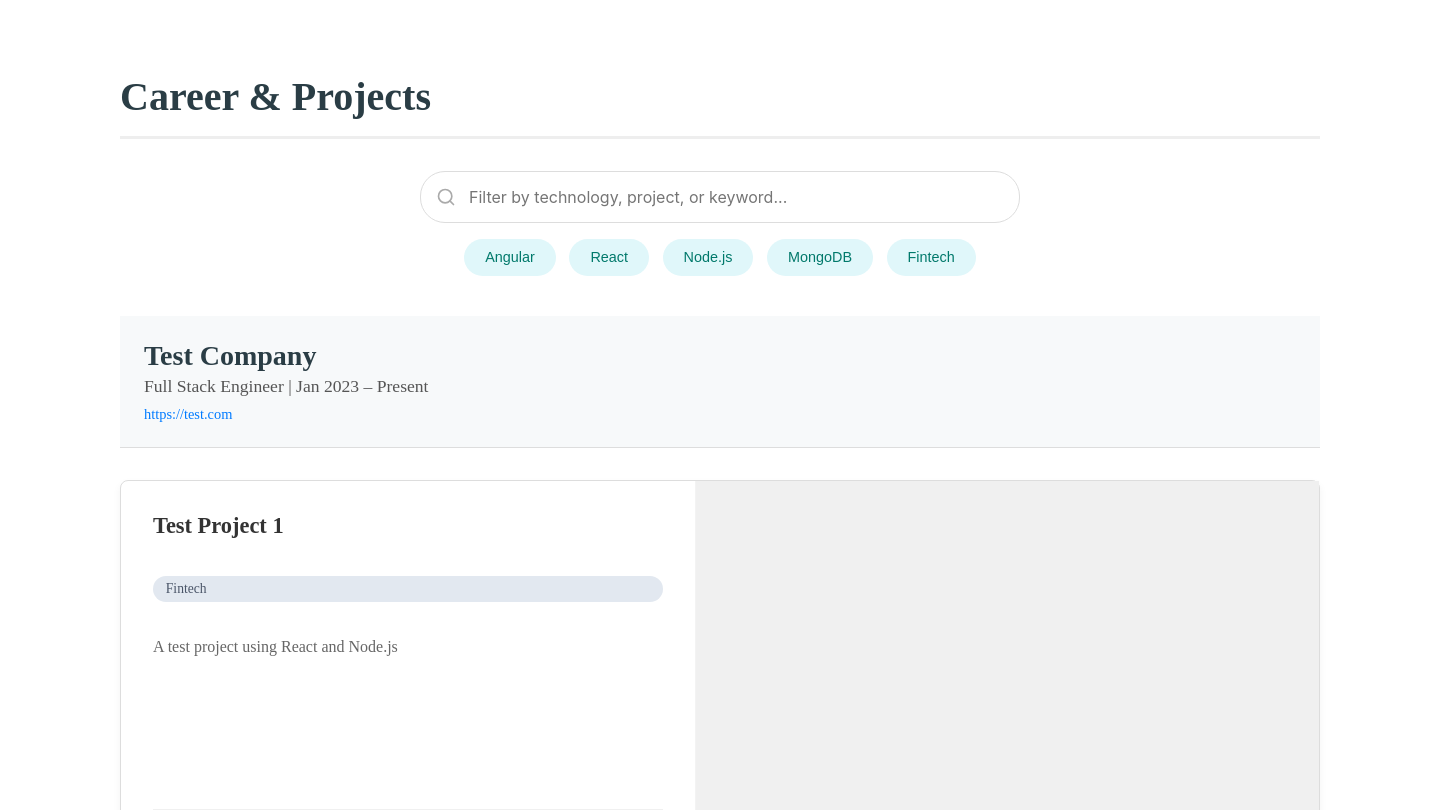
ProjectListMfe App › Search Functionality › should show no results message when no projects match
Type "NonexistentTech" into the field at (720, 197), box [420, 171, 1020, 223]
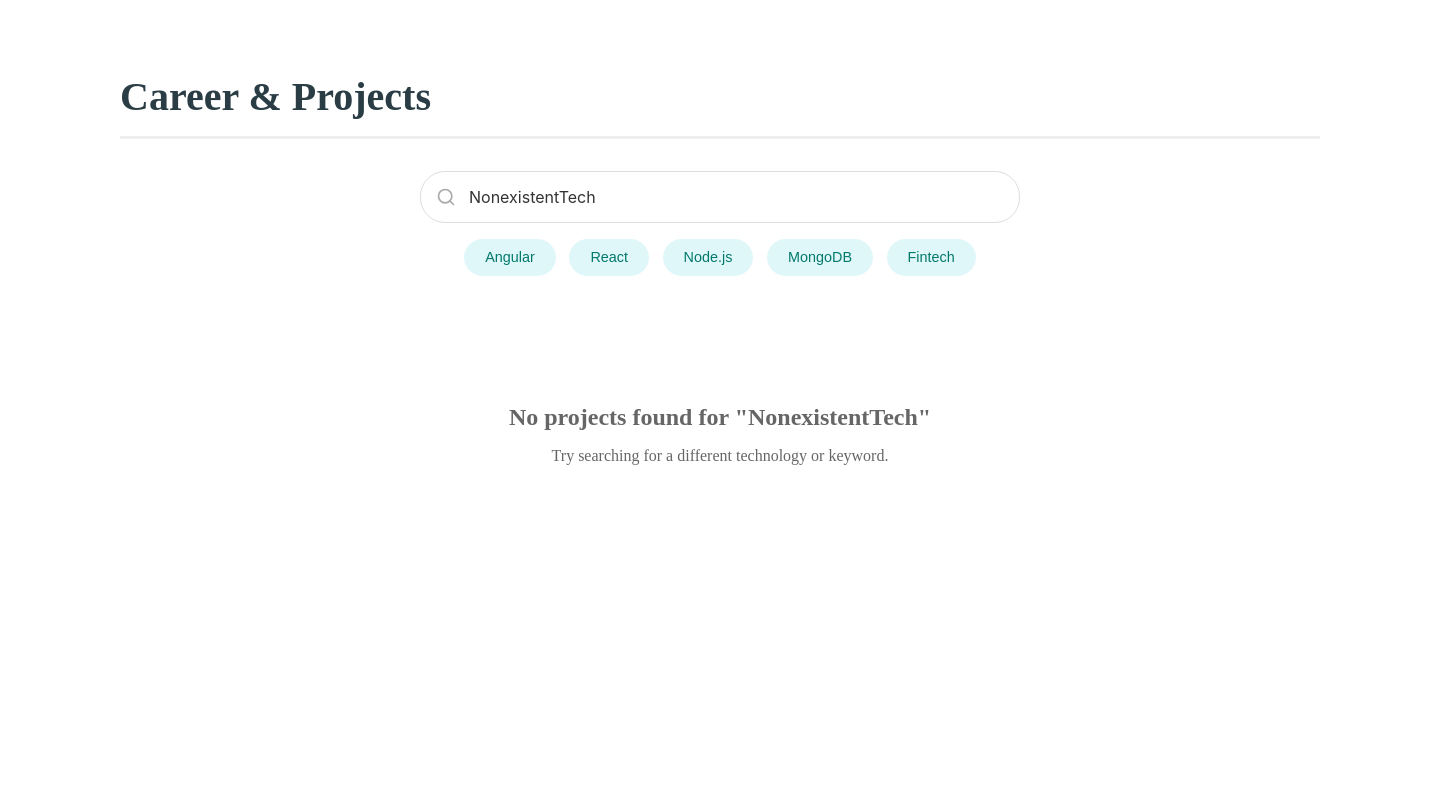
expect the heading "No projects found for \"NonexistentTech\"" is shown: met, box [509, 404, 931, 430]
expect the heading "Test Project 1" is gone: met
